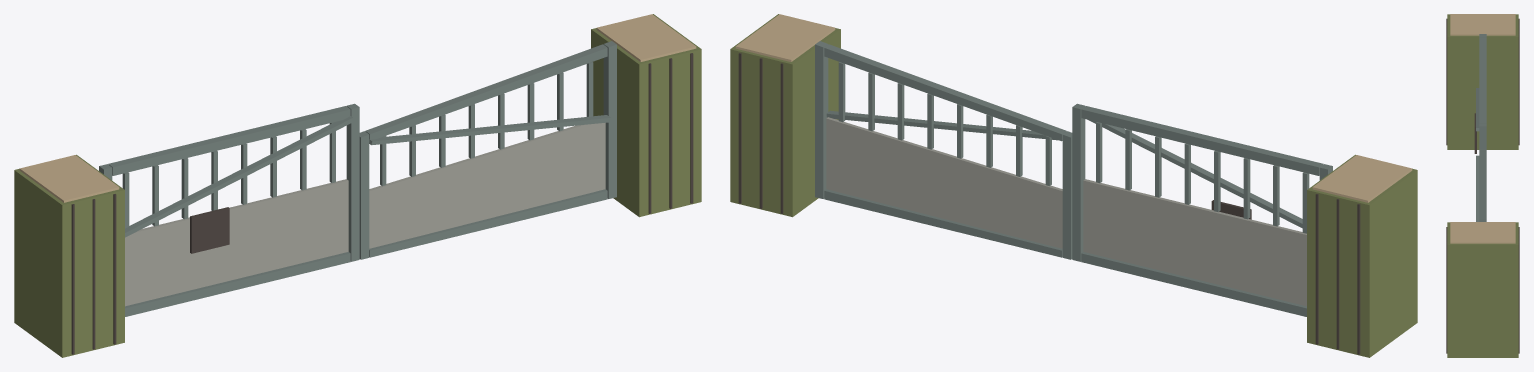
Rendered from SM_PuertaViaDoble_v0_TuboChapa_e1_Danado_LOD0.fbx.
3 renders of one model, left to right at view 1: azimuth 30°, elevation 25°; view 2: azimuth 150°, elevation 25°; view 3: azimuth 270°, elevation 25°, orthographic. The views are drawn at different scales.
Visible parts, largest first — view 1: SM_puerta_via_doble_v1_LOD0, Hoja_O, Hoja_E; view 2: SM_puerta_via_doble_v1_LOD0, Hoja_O, Hoja_E; view 3: SM_puerta_via_doble_v1_LOD0, Hoja_O, Hoja_E.
Part boxes in pixels (bbox=[...]): SM_puerta_via_doble_v1_LOD0: bbox=[14, 14, 701, 357]; Hoja_O: bbox=[99, 103, 359, 316]; Hoja_E: bbox=[359, 41, 616, 259]; SM_puerta_via_doble_v1_LOD0: bbox=[730, 14, 1417, 357]; Hoja_O: bbox=[1072, 103, 1332, 316]; Hoja_E: bbox=[815, 41, 1072, 259]; SM_puerta_via_doble_v1_LOD0: bbox=[1446, 14, 1519, 357]; Hoja_O: bbox=[1474, 34, 1486, 153]; Hoja_E: bbox=[1476, 149, 1486, 221].
Size of the model in its own units: 9.2 by 2.16 by 1.24.
